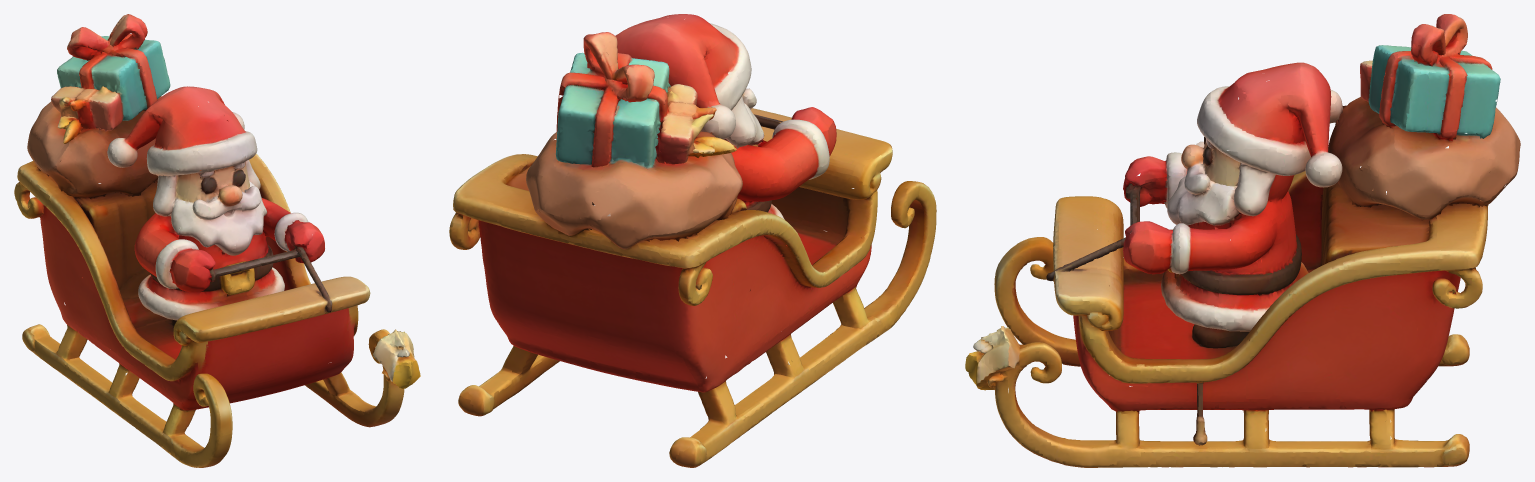
File: xmas_sleigh.glb
3 renders of one model, left to right at view 1: azimuth 30°, elevation 25°; view 2: azimuth 150°, elevation 25°; view 3: azimuth 270°, elevation 25°, orthographic. The views are drawn at different scales.
Visible parts, largest first — view 1: mesh_q; view 2: mesh_q; view 3: mesh_q.
Boxes of the visible parts, x1,y1,x2,y2 form: mesh_q: [14, 14, 420, 467]; mesh_q: [449, 14, 936, 467]; mesh_q: [965, 14, 1520, 467].
Size of the model in its own units: 0.5112 by 0.7519 by 0.9798.
1 material, 1 textured.
